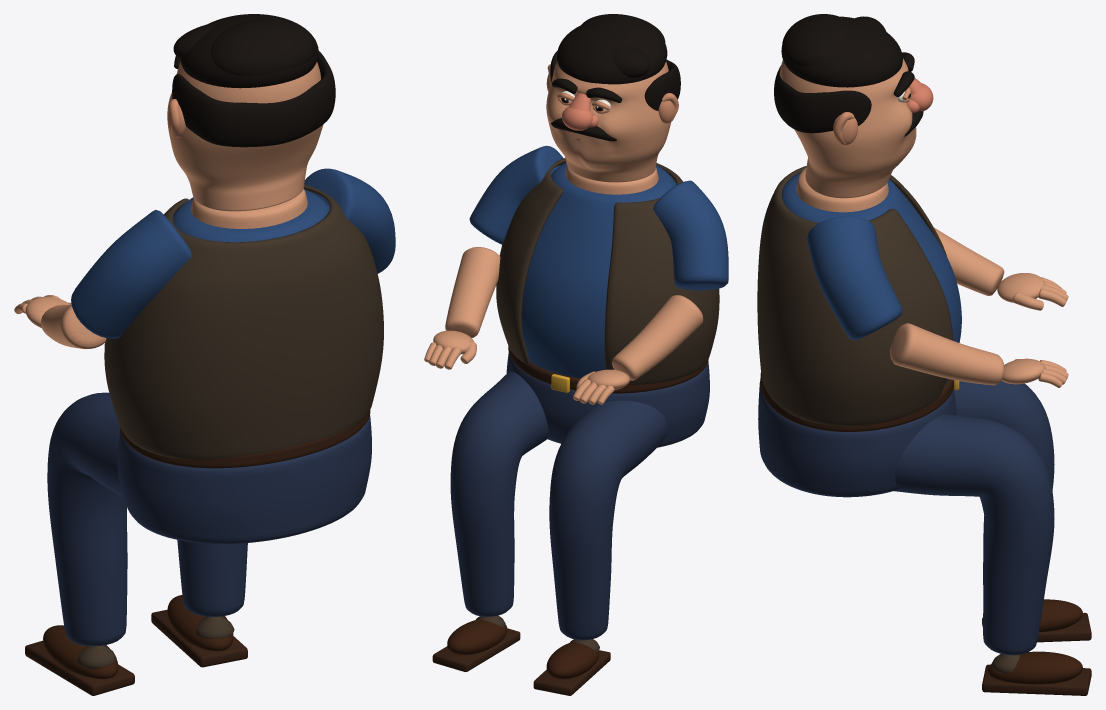
File: davut.glb
3 views of the same model, side by side, from view 1: azimuth 30°, elevation 25°; view 2: azimuth 150°, elevation 25°; view 3: azimuth 270°, elevation 25° (orthographic). The views are drawn at different scales.
Visible parts, largest first — view 1: ApronVest, PelvisPants.003, FullLegL.003, FaceSkull.003, RolledSleeveL.002, HairHorseshoe.003, HairCrown.002, FullLegR.003, RolledSleeveR.002, HairTopCap.002, ShirtBody.002, LeatherBelt.002 (+10 smaller); view 2: ApronVest, FullLegL.003, ShirtBody.002, FullLegR.003, FaceSkull.003, RolledSleeveL.002, PelvisPants.003, HairTopCap.002, RolledSleeveR.002, ForearmL.003, ForearmR.003, ShoeUpperR.002 (+12 smaller); view 3: ApronVest, FullLegR.003, PelvisPants.003, FaceSkull.003, RolledSleeveR.002, HairTopCap.002, FullLegL.003, ForearmR.003, ShirtBody.002, HairHorseshoe.003, HairCrown.002, ShoeUpperR.002 (+8 smaller).
Part boxes in pixels (x1,y1,x2,y2): ApronVest: (104, 184, 383, 459); PelvisPants.003: (117, 415, 371, 543); FullLegL.003: (47, 392, 127, 646); FaceSkull.003: (167, 61, 323, 211); RolledSleeveL.002: (71, 209, 191, 338); HairHorseshoe.003: (172, 51, 335, 147); HairCrown.002: (210, 18, 315, 75); FullLegR.003: (177, 540, 247, 616); RolledSleeveR.002: (304, 168, 395, 273); HairTopCap.002: (180, 14, 318, 88); ShirtBody.002: (173, 189, 329, 242); LeatherBelt.002: (119, 410, 370, 468); ApronVest: (496, 158, 719, 384); FullLegL.003: (549, 400, 667, 640); ShirtBody.002: (521, 162, 676, 378); FullLegR.003: (450, 371, 548, 616); FaceSkull.003: (546, 61, 671, 182); RolledSleeveL.002: (653, 180, 728, 290); PelvisPants.003: (506, 352, 709, 447); HairTopCap.002: (557, 25, 667, 84); RolledSleeveR.002: (469, 145, 563, 244); ForearmL.003: (612, 295, 703, 380); ForearmR.003: (445, 247, 500, 337); ShoeUpperR.002: (447, 619, 507, 655); ApronVest: (757, 166, 953, 426); FullLegR.003: (894, 414, 1054, 655); PelvisPants.003: (758, 381, 956, 497); FaceSkull.003: (779, 58, 916, 198); RolledSleeveR.002: (807, 216, 902, 340); HairTopCap.002: (781, 16, 902, 87); FullLegL.003: (954, 380, 1054, 584); ForearmR.003: (890, 323, 1004, 385); ShirtBody.002: (782, 171, 961, 385); HairHorseshoe.003: (774, 65, 871, 133); HairCrown.002: (782, 14, 846, 66); ShoeUpperR.002: (988, 651, 1082, 684).
Size of the model in its own units: 0.6558 by 1.42 by 0.6764.
